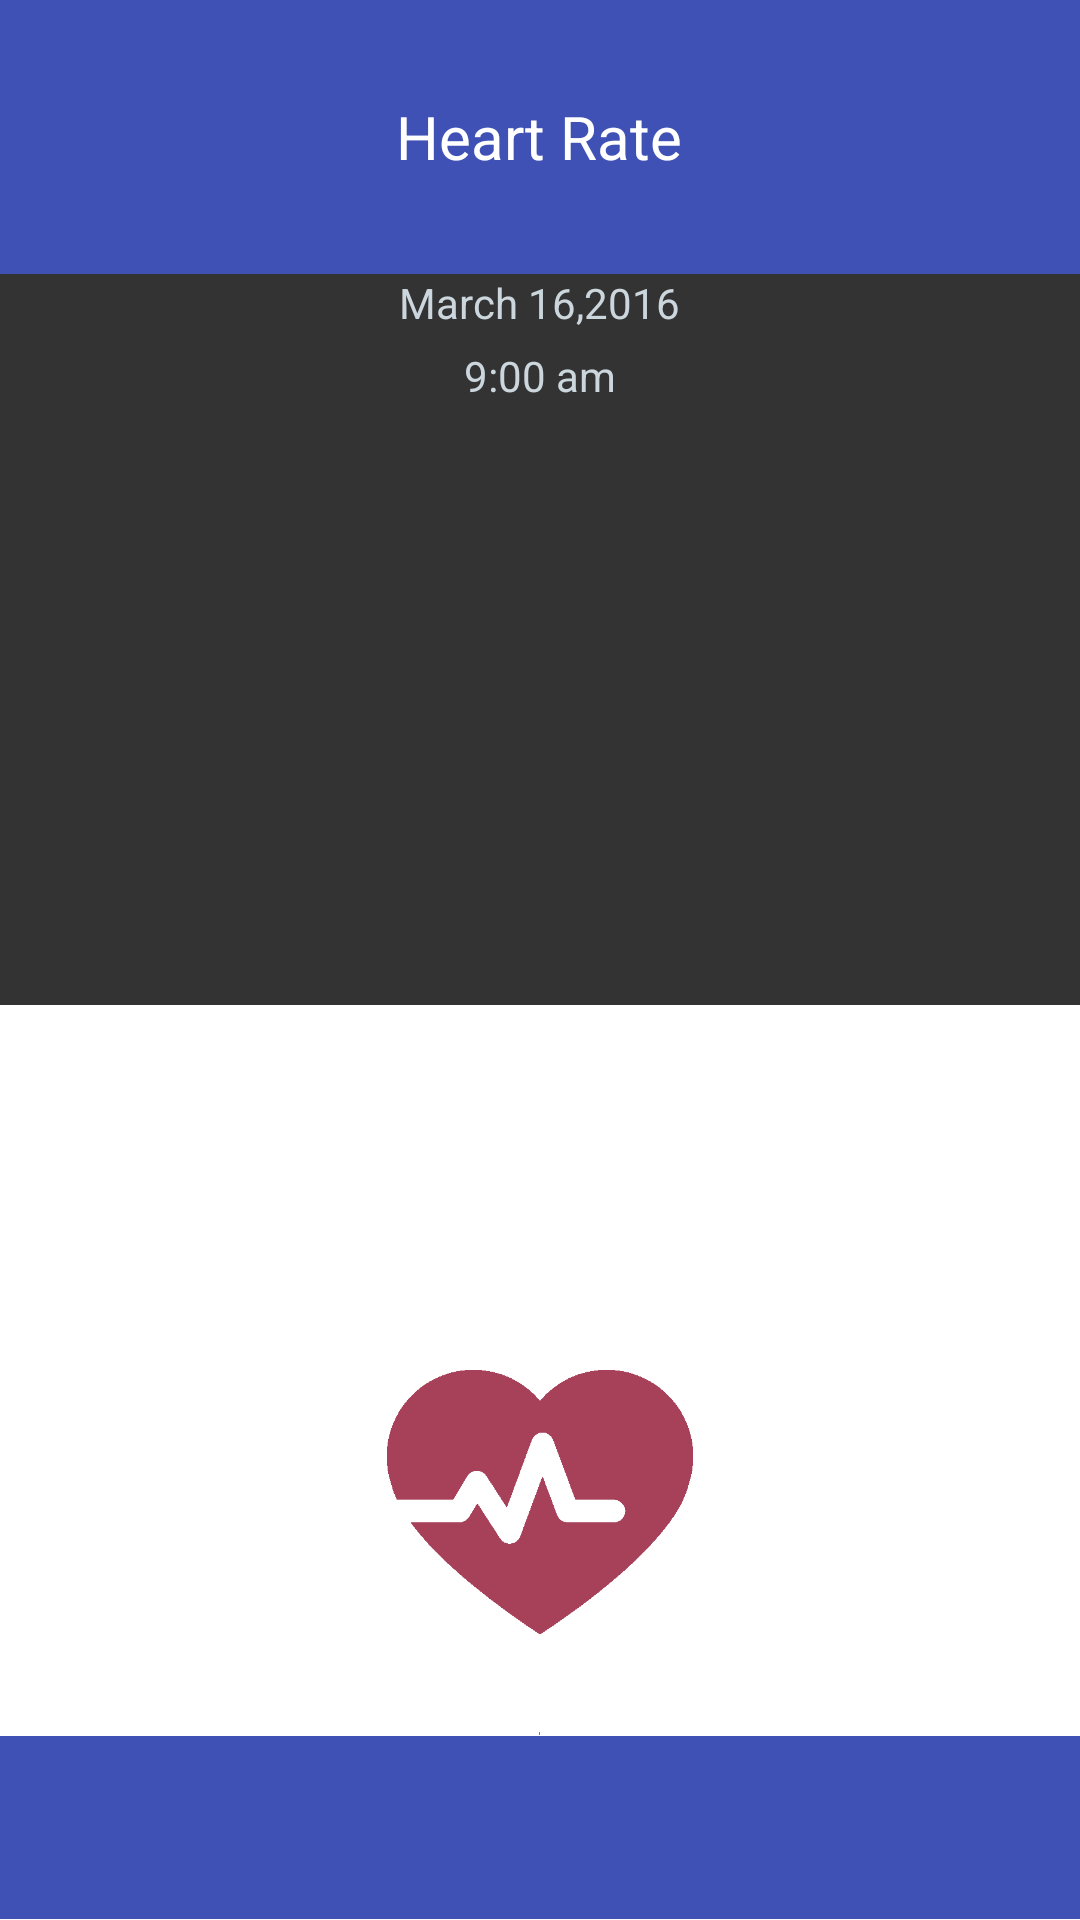

Icon bounding boxes for this 1080px x 1920px phone screenshot, format (x1, y1, x2, y2):
heartbeatoff: (387, 1370, 693, 1634)
